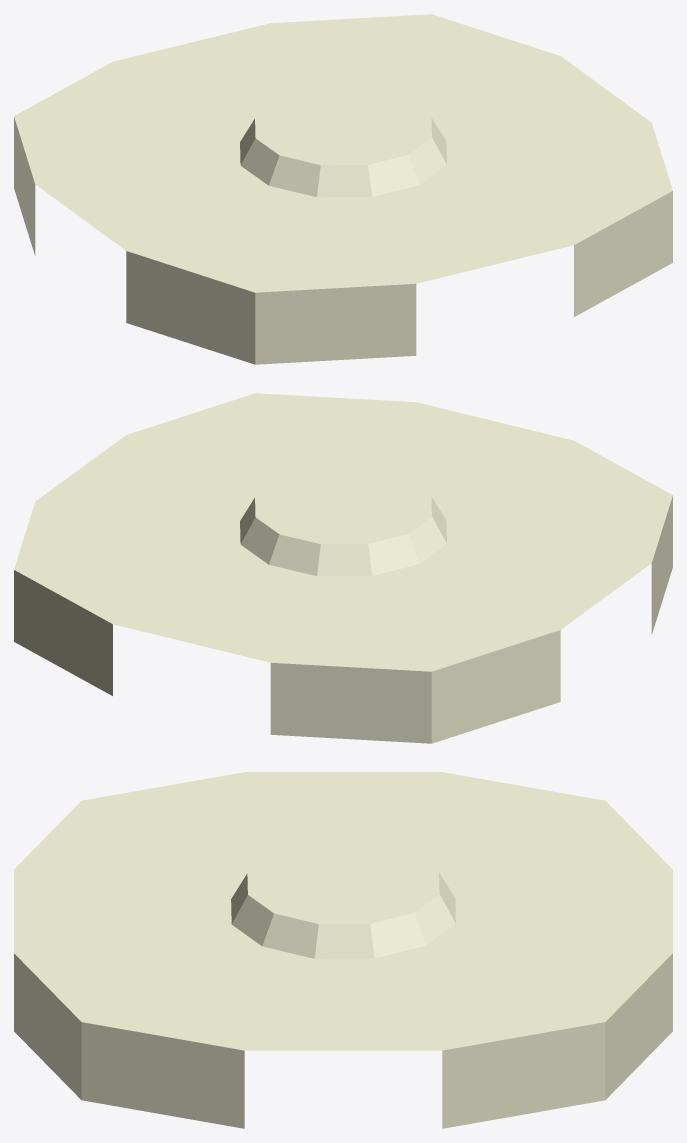
File: Props_Cable_Controller.fbx
3 renders of one model, top to bottom at view 1: azimuth 30°, elevation 25°; view 2: azimuth 150°, elevation 25°; view 3: azimuth 270°, elevation 25°, orthographic. The views are drawn at different scales.
Parts seen in each view (by area): view 1: Props_Cable_Controller; view 2: Props_Cable_Controller; view 3: Props_Cable_Controller.
Boxes of the visible parts, x1=… form: Props_Cable_Controller: x1=14, y1=14, x2=672, y2=364; Props_Cable_Controller: x1=14, y1=393, x2=672, y2=743; Props_Cable_Controller: x1=14, y1=772, x2=672, y2=1128.
Size of the model in its own units: 44.84 by 7.96 by 44.84.
